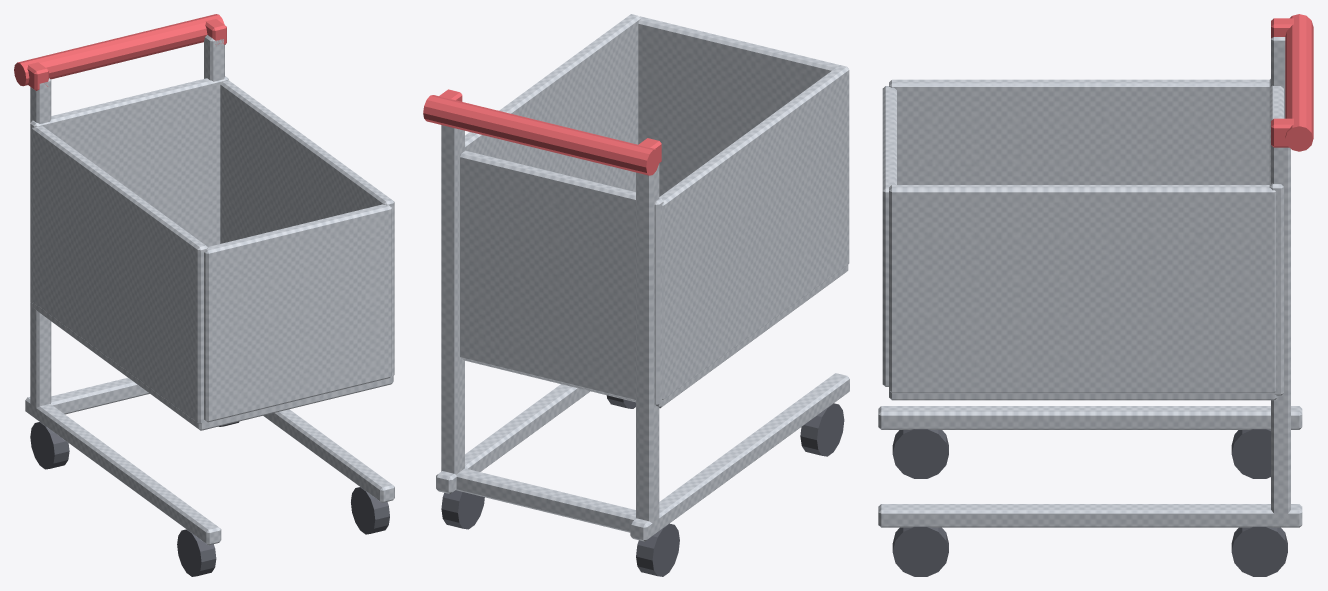
File: troli.fbx
3 views of the same model, side by side, from view 1: azimuth 30°, elevation 25°; view 2: azimuth 150°, elevation 25°; view 3: azimuth 270°, elevation 25° (orthographic). The views are drawn at different scales.
Parts seen in each view (by area): view 1: troli; view 2: troli; view 3: troli.
Boxes of the visible parts, x1=… form: troli: x1=14, y1=14, x2=394, y2=576; troli: x1=423, y1=14, x2=849, y2=576; troli: x1=878, y1=14, x2=1313, y2=576.
Bounding box in the file's own units: 188 × 354 × 308.
1 material, 1 textured.
